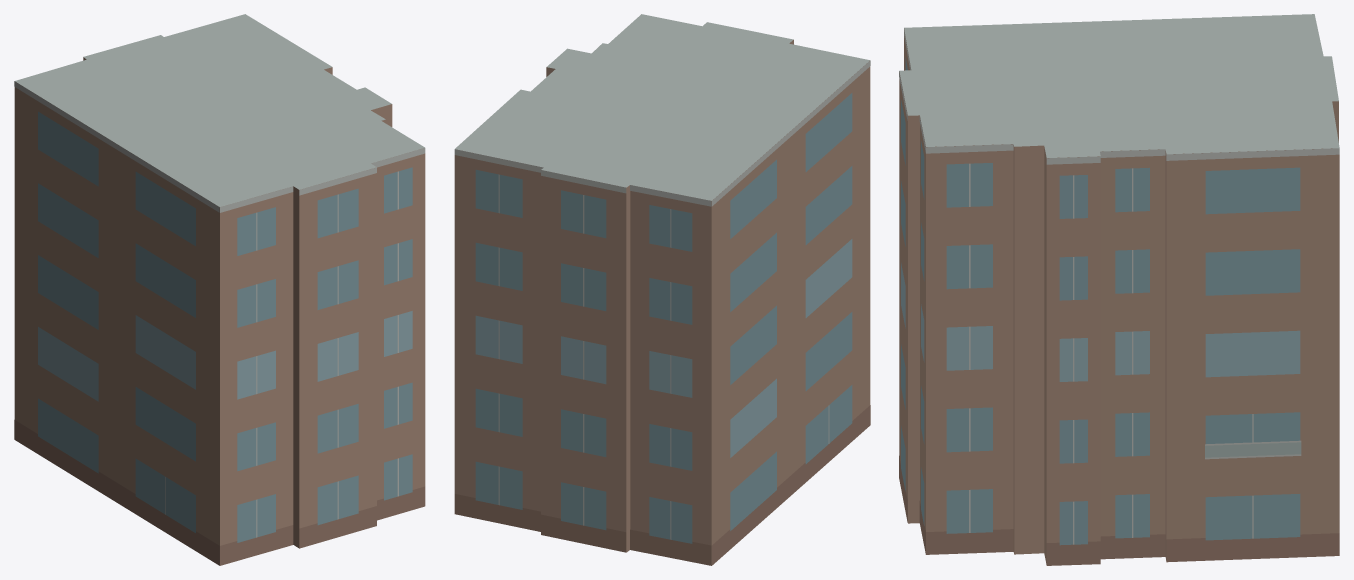
Rendered from survey-upis-33028657.glb.
3 renders of one model, left to right at view 1: azimuth 30°, elevation 25°; view 2: azimuth 150°, elevation 25°; view 3: azimuth 270°, elevation 25°, orthographic. The views are drawn at different scales.
Visible parts, largest first — view 1: survey-upis-33028657.tmp; view 2: survey-upis-33028657.tmp; view 3: survey-upis-33028657.tmp.
Part boxes in pixels (box(x1,y1,x2,y2)): survey-upis-33028657.tmp: box(14, 14, 425, 565); survey-upis-33028657.tmp: box(454, 14, 870, 565); survey-upis-33028657.tmp: box(899, 14, 1339, 565).
Bounding box in the file's own units: 11.53 × 15.2 × 14.89.
